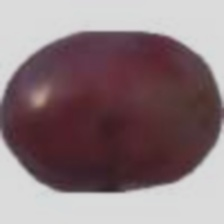grapes: (27, 37, 208, 203)
